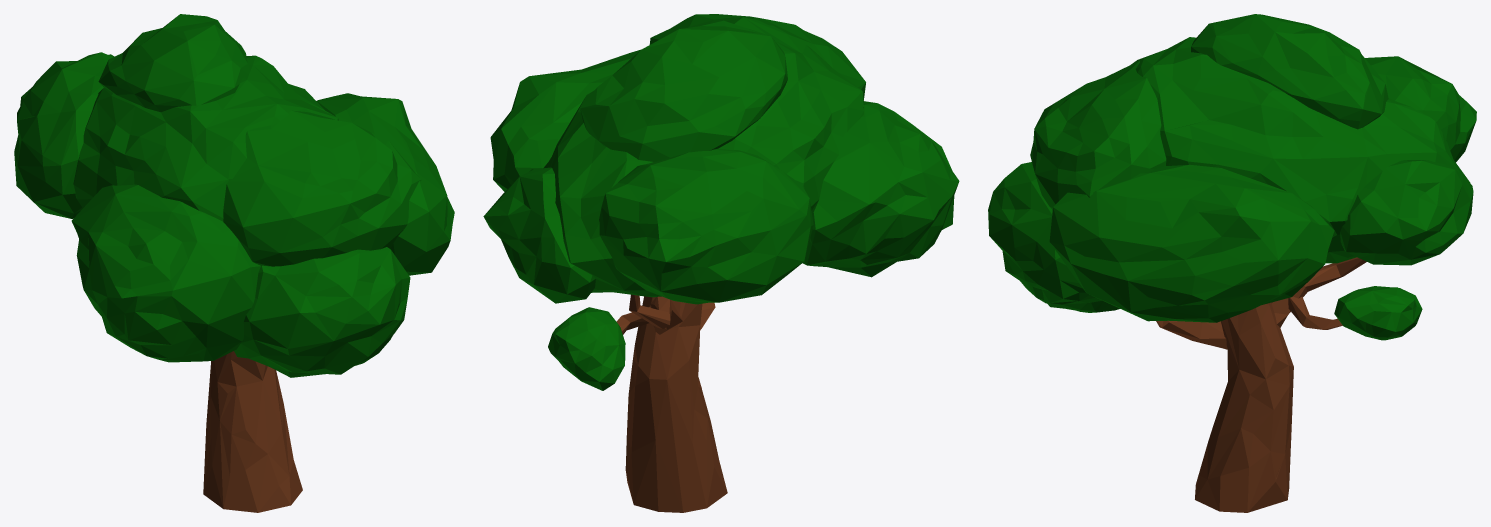
File: Oak.fbx
3 renders of one model, left to right at view 1: azimuth 30°, elevation 25°; view 2: azimuth 150°, elevation 25°; view 3: azimuth 270°, elevation 25°, orthographic. The views are drawn at different scales.
Visible parts, largest first — view 1: Oak tree.001, Oak tree; view 2: Oak tree.001, Oak tree; view 3: Oak tree.001, Oak tree.
Boxes of the visible parts, <box> form: Oak tree.001: <box>14,14,454,377</box>; Oak tree: <box>203,351,302,512</box>; Oak tree.001: <box>483,14,959,390</box>; Oak tree: <box>616,294,727,512</box>; Oak tree.001: <box>988,14,1476,340</box>; Oak tree: <box>1156,257,1366,512</box>.
Bounding box in the file's own units: 344 × 350 × 294.
